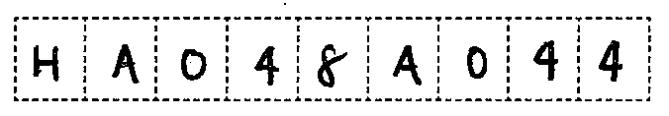0: (171, 44, 213, 90), (458, 38, 496, 84)
4: (528, 34, 564, 85), (594, 36, 630, 86), (250, 39, 284, 90)
8: (307, 40, 348, 94)
A: (104, 38, 148, 90), (384, 41, 428, 90)
H: (25, 39, 67, 87)
